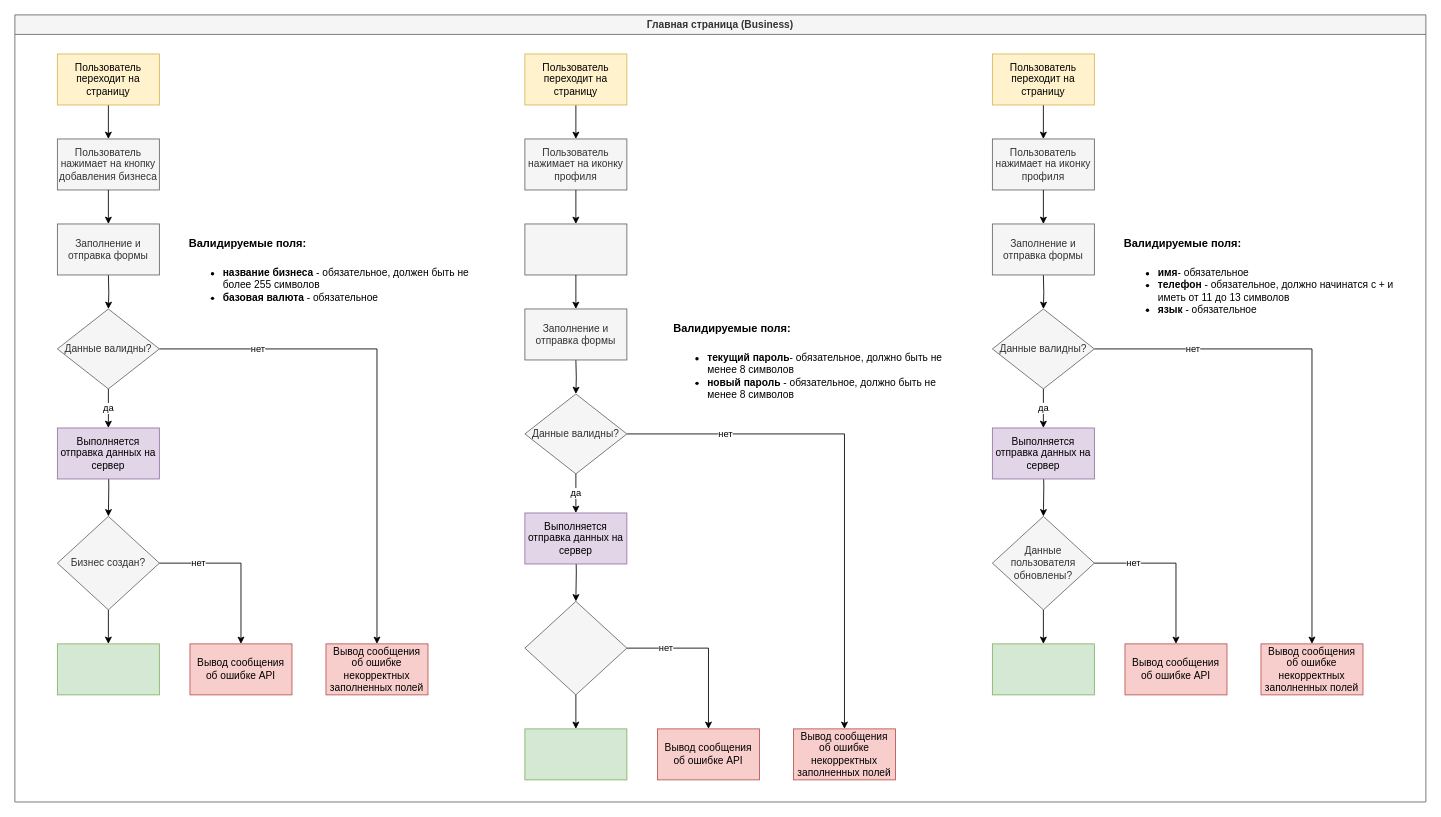
Image size: 1441x817. Some labels were removed from this diagram. The shapes that lost their labels are listed below. From the top down, each one's centre as x and y in pixels, then its label:
point 575,249: Пользователь нажимает на кнопку изменить пароль
point 575,648: Пароль пользователя обновлен?
point 108,669: Вывод сообщения об успешном создании бизнеса
point 1043,669: Вывод сообщения об успешном обновление профиля
point 575,754: Вывод сообщения об успешном обновление пароля
